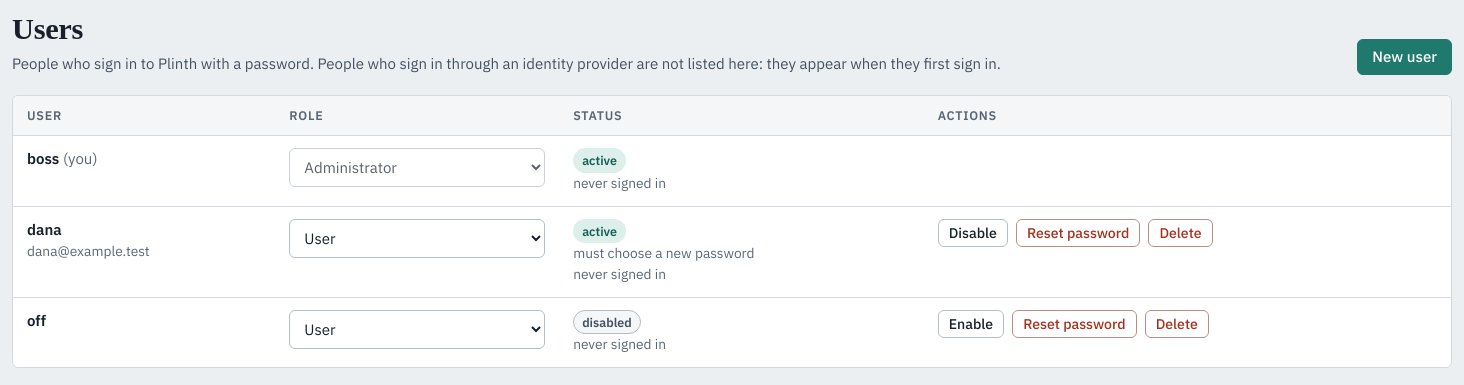
Test: users page › shows why something cannot be done
Click the button "Delete" in the row of "dana@example.test" at (1180, 233), box [1148,218,1212,247]
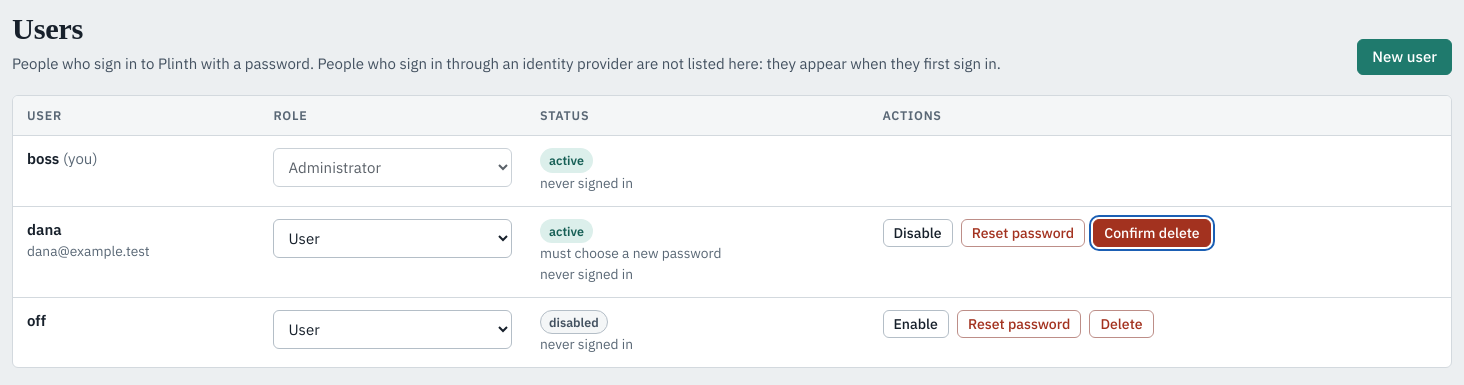
Click the button "Confirm delete" at (1152, 233), box [1093,218,1211,247]
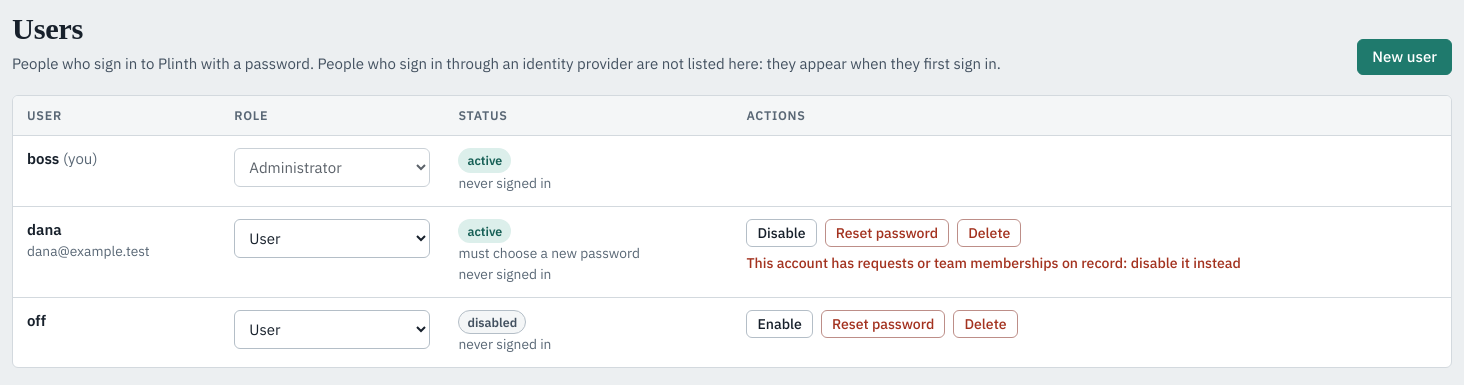
Expected: the message shows "disable it instead", [746,254,1241,272]
